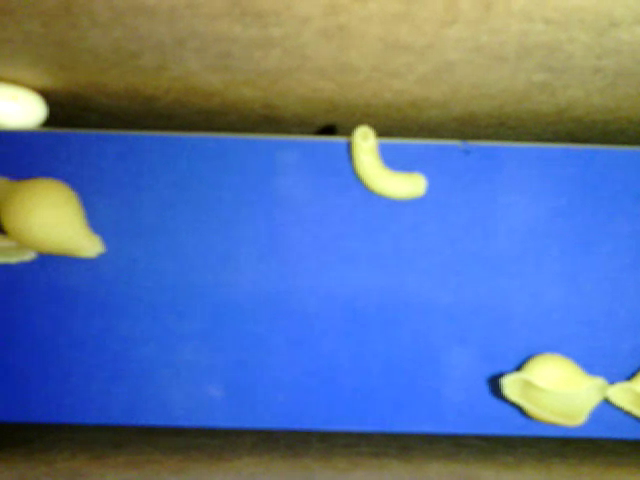elbow: (352, 124, 426, 202)
shell: (1, 174, 106, 259), (498, 351, 609, 427)
